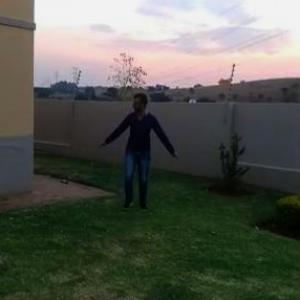land: (89, 97, 186, 228)
